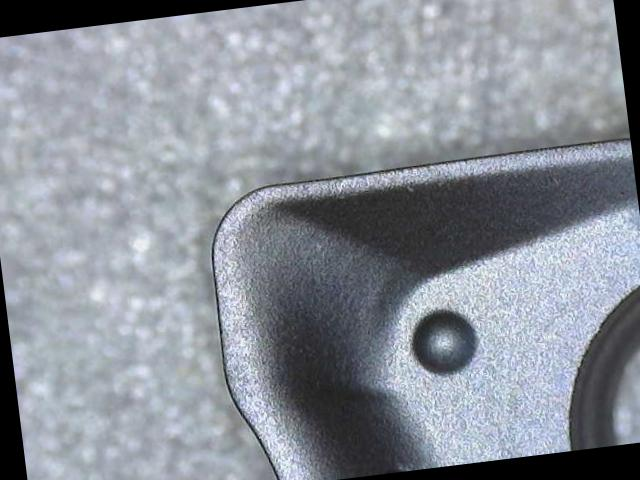normal: (212, 139, 630, 480)
